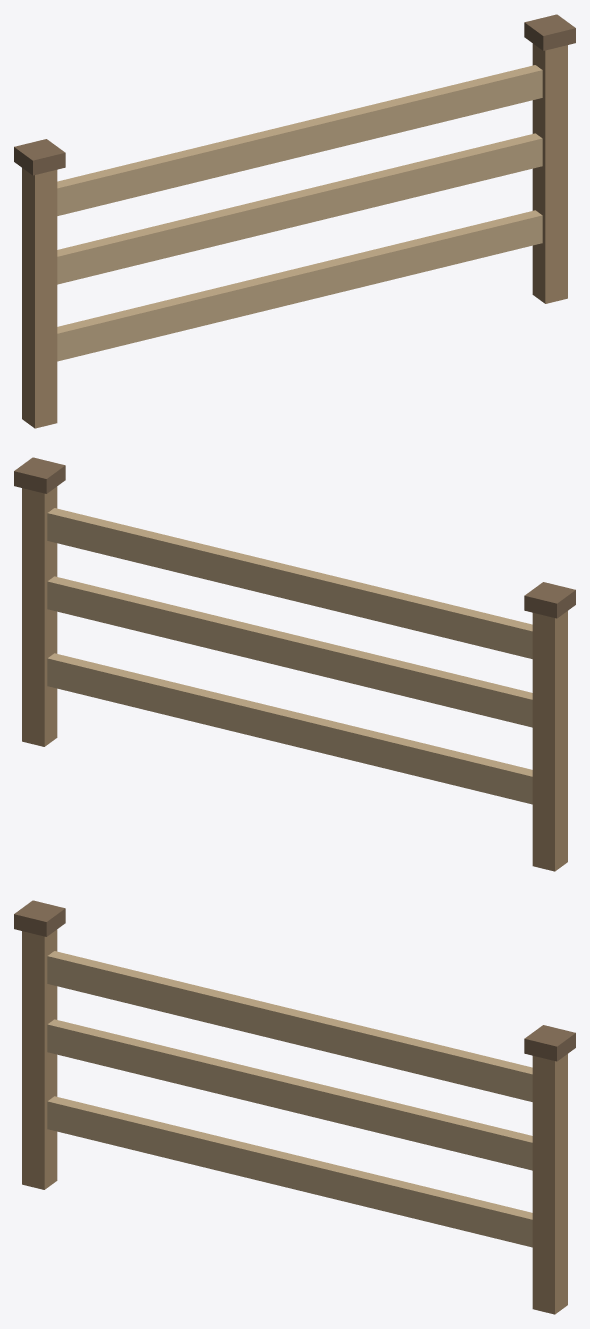
The model's file is fence_panel.glb.
3 views of the same model, one above another, from view 1: azimuth 30°, elevation 25°; view 2: azimuth 150°, elevation 25°; view 3: azimuth 330°, elevation 25° (orthographic).
Parts seen in each view (by area): view 1: fence_panel; view 2: fence_panel; view 3: fence_panel.
Part boxes in pixels (x1,y1,x2,y2): fence_panel: (14,14,575,428); fence_panel: (14,457,575,871); fence_panel: (14,900,575,1314).
Size of the model in its own units: 2.66 by 1.27 by 0.16.
